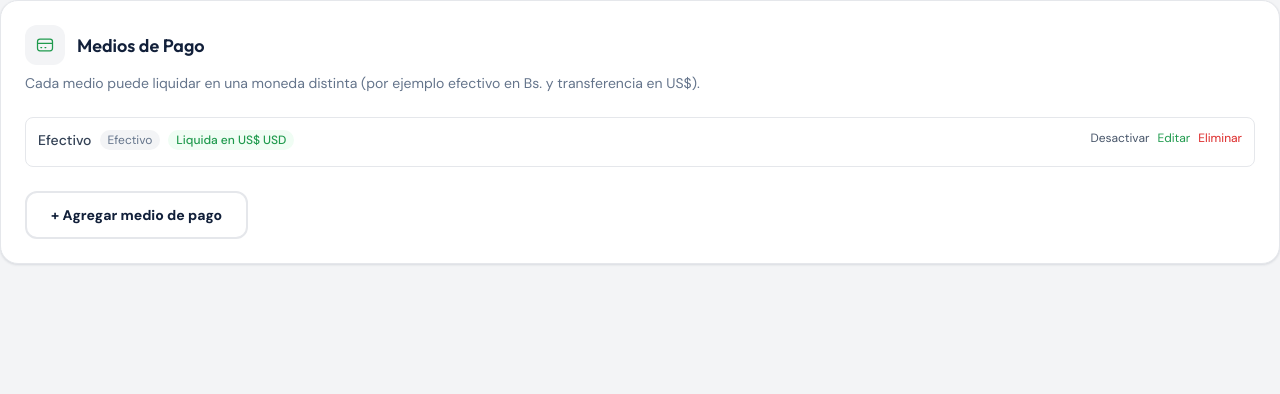
Test: PaymentMethodsSettings › persists settlement currency through the dedicated payment method action
Click the button "Editar": (1174, 138) [1157,130,1190,146]
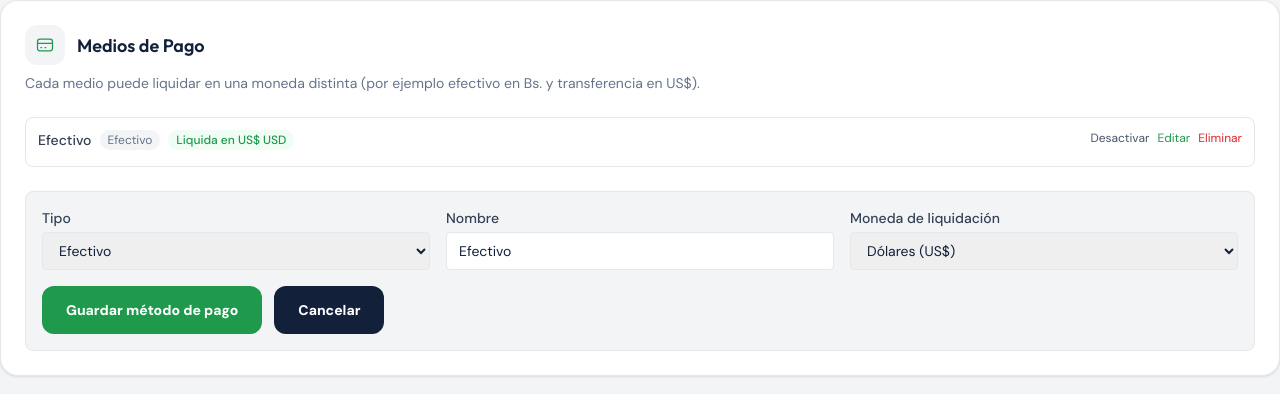
Select "Bolívares (Bs.)" in the dropdown below "Moneda de liquidación": (1044, 251) [850,232,1238,270]
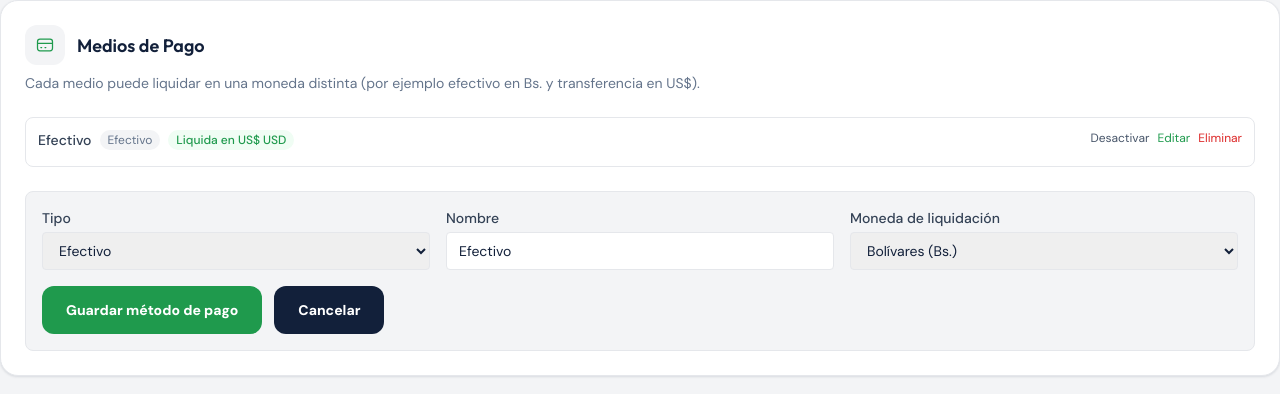
Click the button "Guardar método de pago": (152, 310) [42,286,262,334]
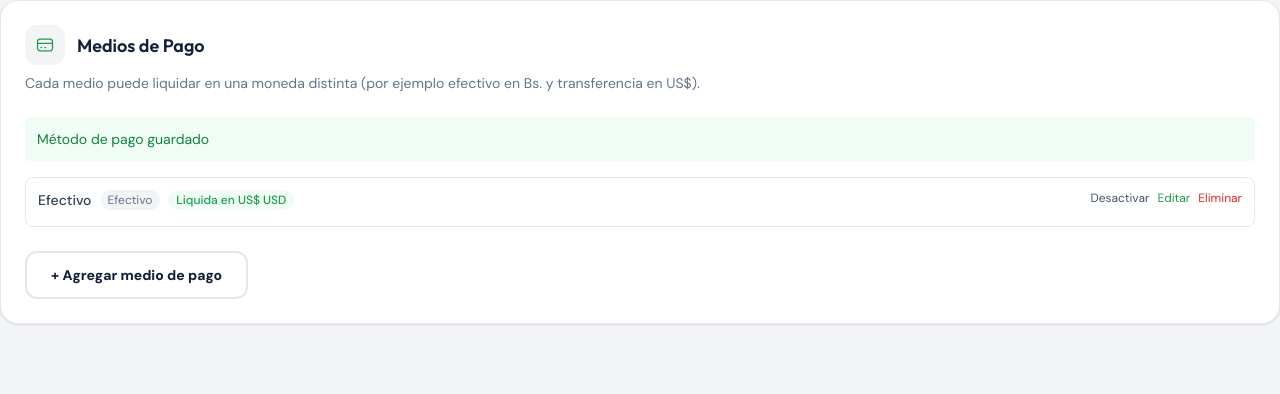
Now the text "Método de pago guardado" is shown, box [25,117,1255,161]
